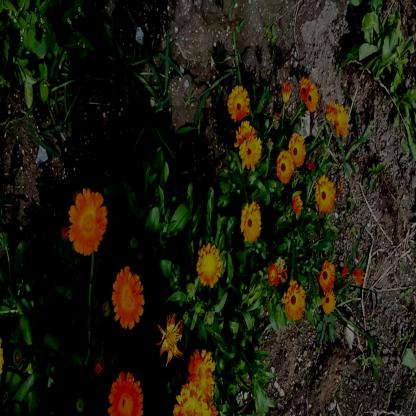marigold: (66, 190, 106, 258), (112, 269, 142, 328), (107, 371, 141, 414), (186, 350, 217, 396), (237, 124, 261, 170), (198, 245, 222, 286), (242, 202, 262, 244), (229, 85, 251, 121), (285, 284, 305, 320), (316, 178, 336, 212), (288, 131, 306, 166), (276, 150, 294, 183), (301, 76, 318, 110), (320, 262, 333, 290), (323, 292, 337, 316), (335, 108, 347, 132)
